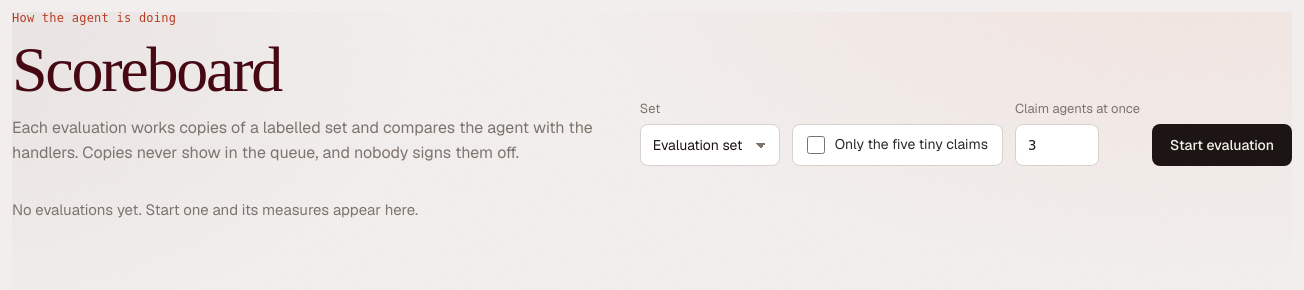
Test case: Scoreboard › says so when a run is already going
The image size is (1304, 290).
Click the button "Start evaluation".
click(1222, 145)  # box top-left (1152, 124), bottom-right (1292, 166)
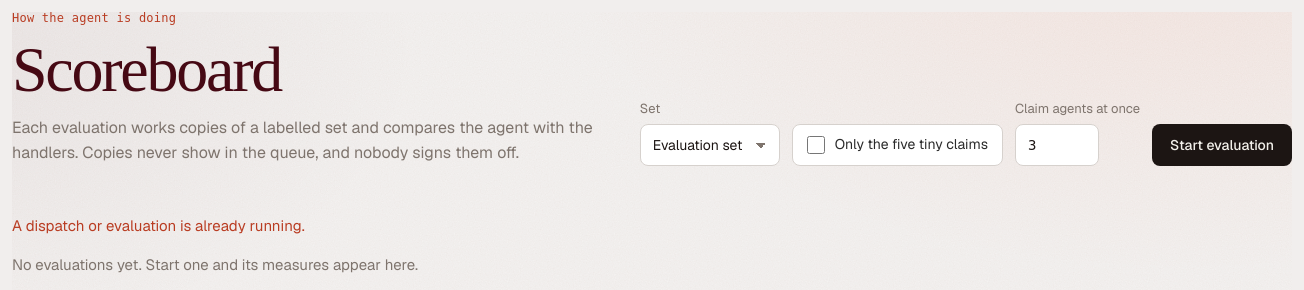
Expected: the text "A dispatch or evaluation is already running." is shown, top-left (12, 214), bottom-right (305, 237)
